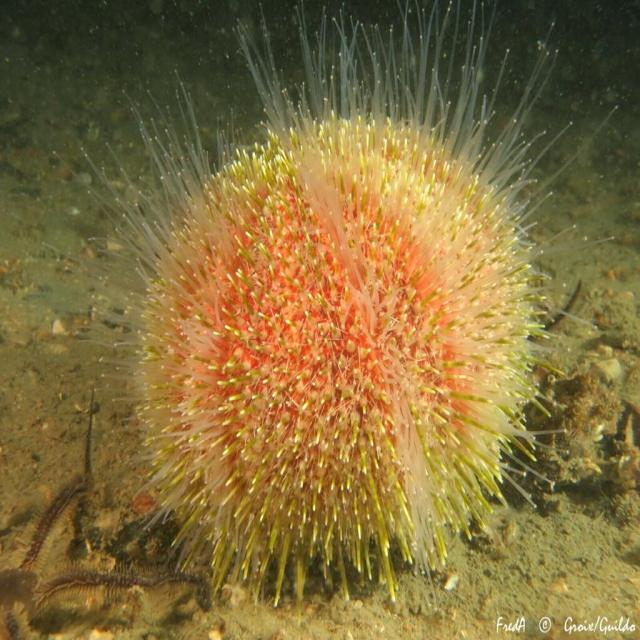Deniz Kestanesi: (50, 0, 621, 609)
